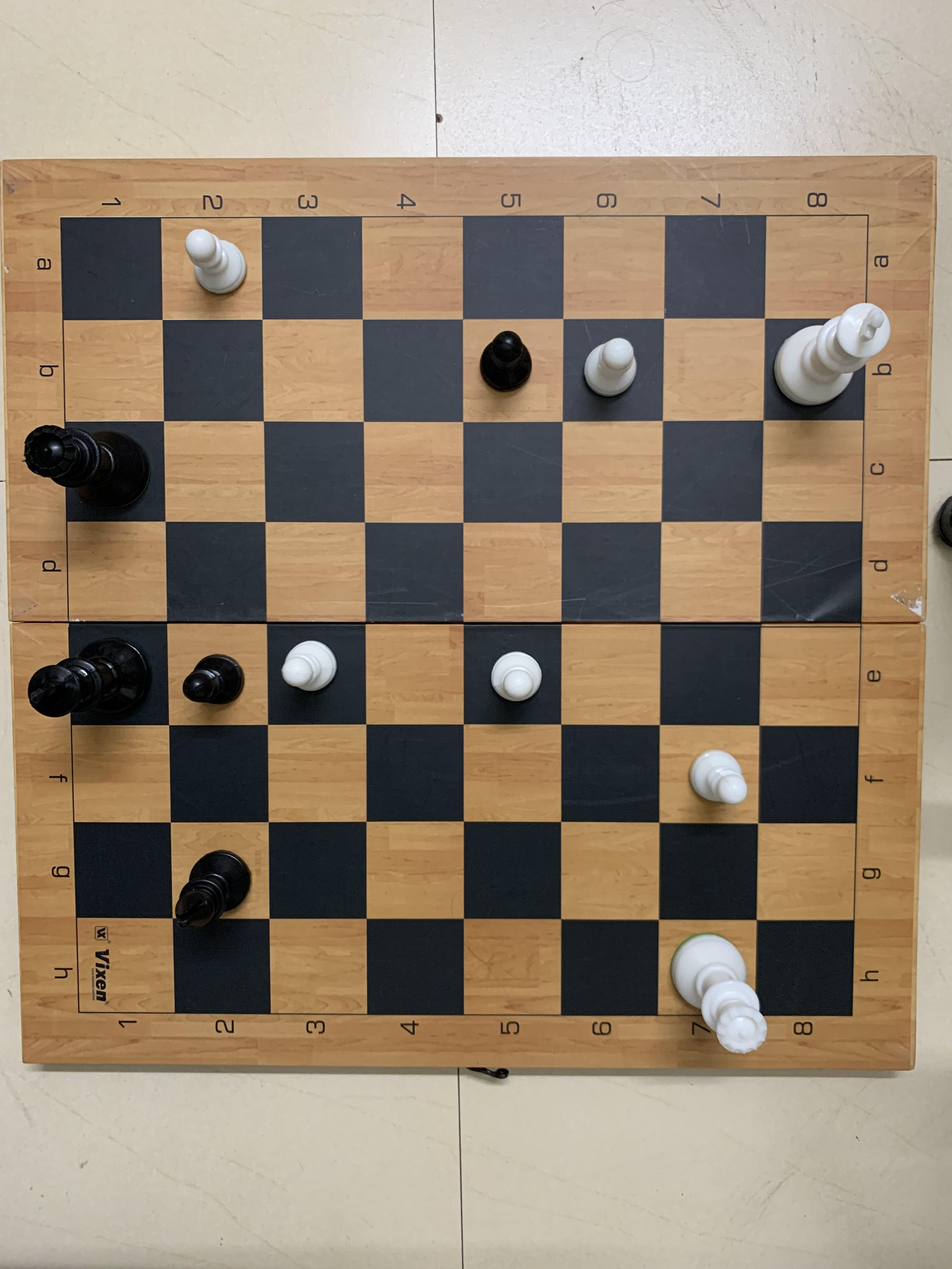black_bishop: (167, 839, 260, 939)
black_king: (25, 630, 154, 741)
black_pawn: (469, 313, 553, 405), (173, 641, 250, 726)
black_queen: (20, 414, 149, 514)
white_king: (770, 291, 904, 416)
white_pawn: (570, 323, 654, 422), (165, 219, 252, 310), (471, 628, 552, 720), (677, 738, 759, 818), (279, 625, 349, 706)
white_queen: (667, 929, 789, 1062)
